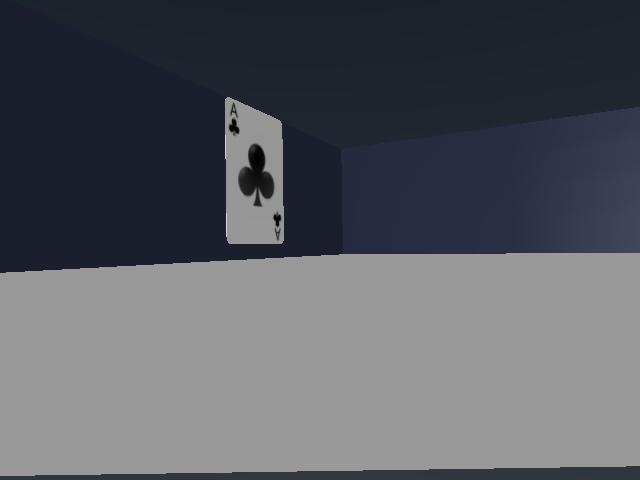club: (225, 98, 283, 243)
